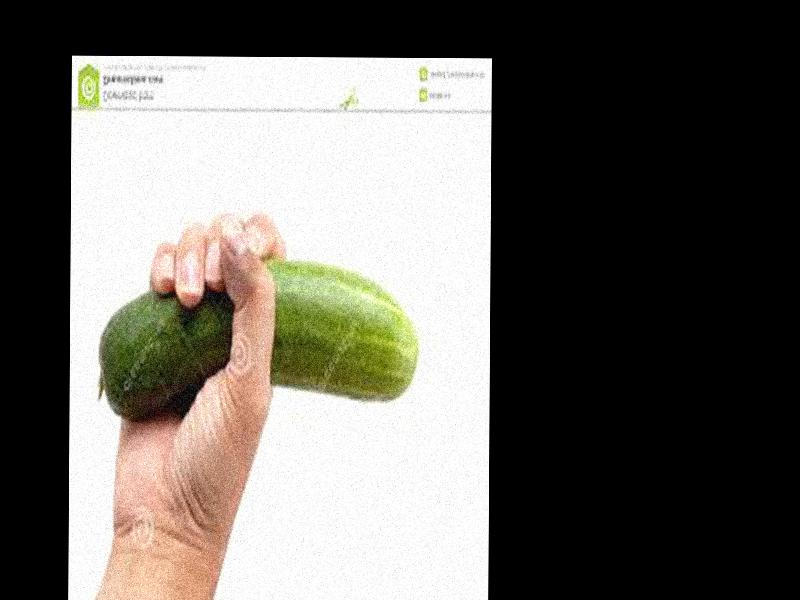Cucumber: (101, 255, 419, 420)
